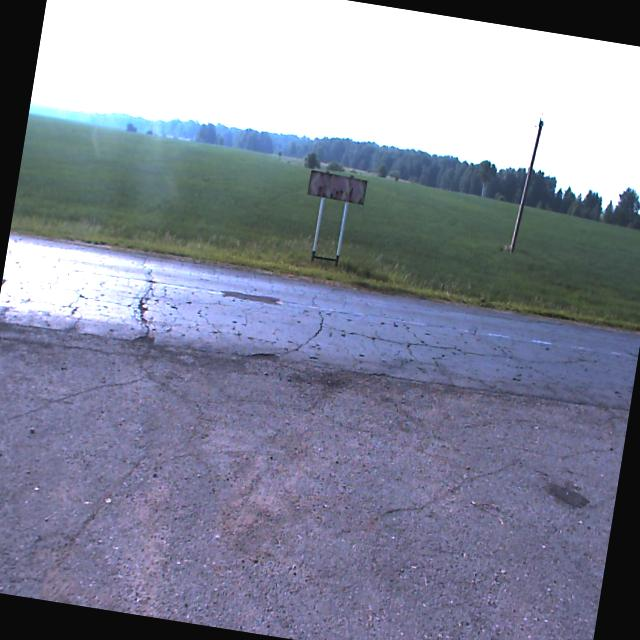road: (0, 234, 640, 640)
